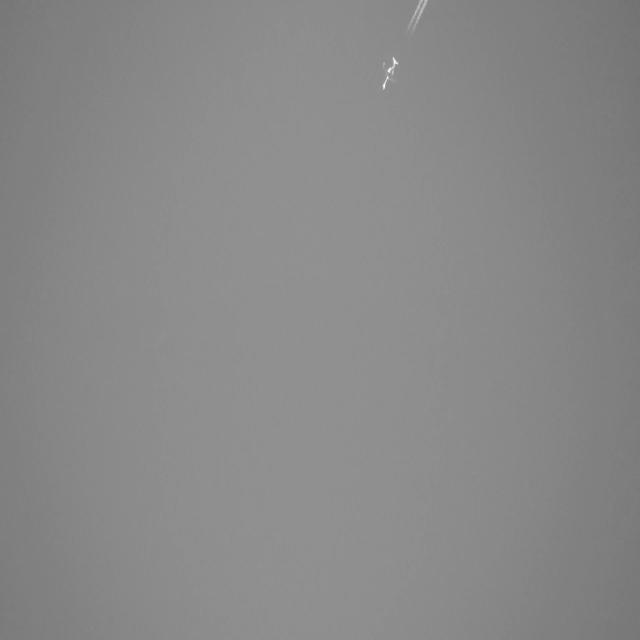aeroplane: (377, 50, 402, 96)
